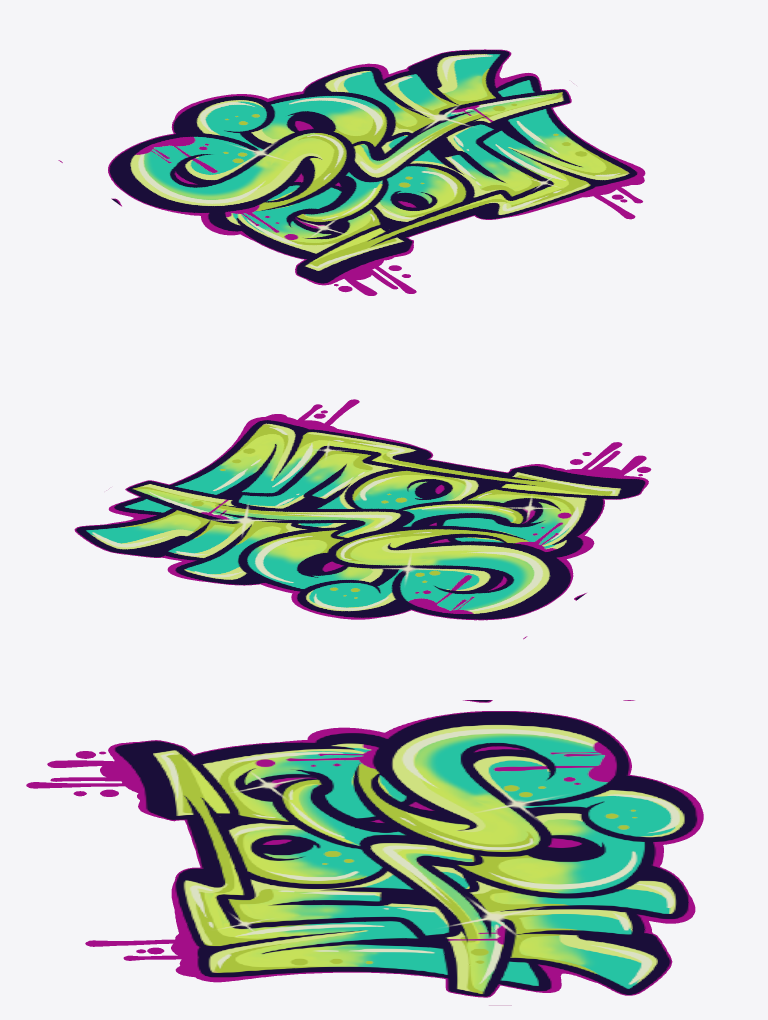
The model's file is street art(3).fbx.
3 views of the same model, one above another, from view 1: azimuth 30°, elevation 25°; view 2: azimuth 150°, elevation 25°; view 3: azimuth 270°, elevation 25° (orthographic). The views are drawn at different scales.
Visible parts, largest first — view 1: Plane001; view 2: Plane001; view 3: Plane001.
Part boxes in pixels (left/top/right/bottom): Plane001: left=58, top=49, right=645, bottom=295; Plane001: left=74, top=399, right=651, bottom=639; Plane001: left=26, top=700, right=703, bottom=1005.
Bounding box in the file's own units: 150 × 9.37e-15 × 153.
